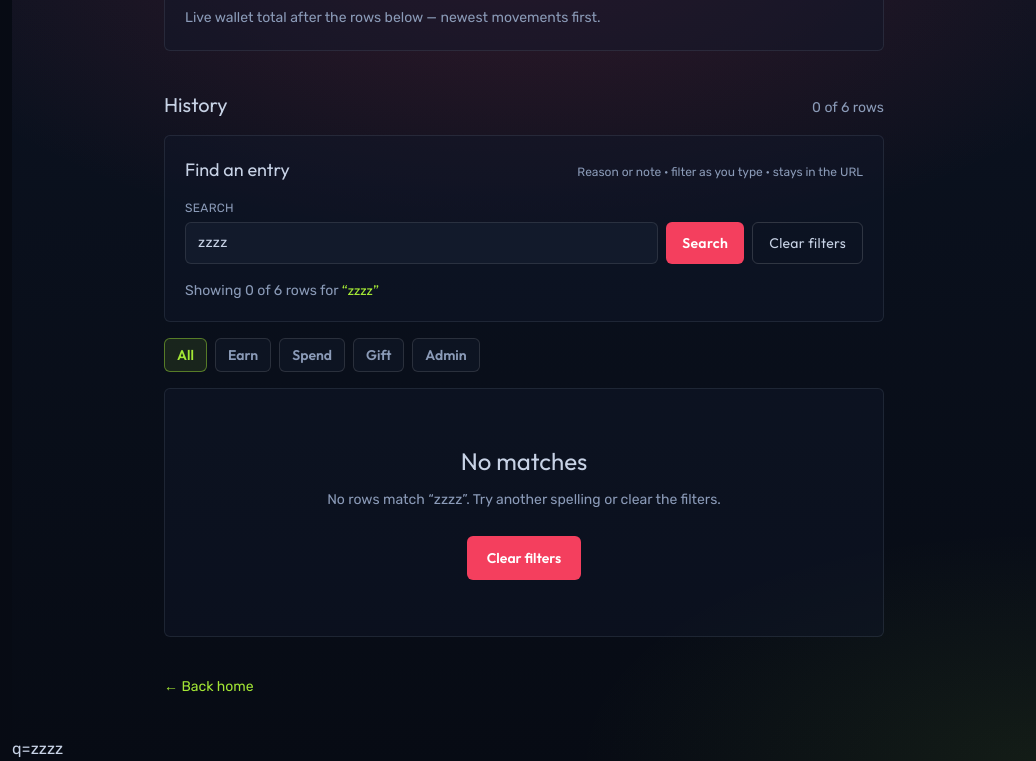
Test: LedgerPage Midnight Garage UI › shows No matches and Clear filters when Find yields none
(page scrolled)
Expected: the text "No matches" is shown, [461,446,587,476]
Expected: the message named "No matching ledger entries" is shown, [164,388,884,637]
Click the button "Clear filters" below "No matches" at (524, 558), box [467,536,581,580]
(page scrolled)
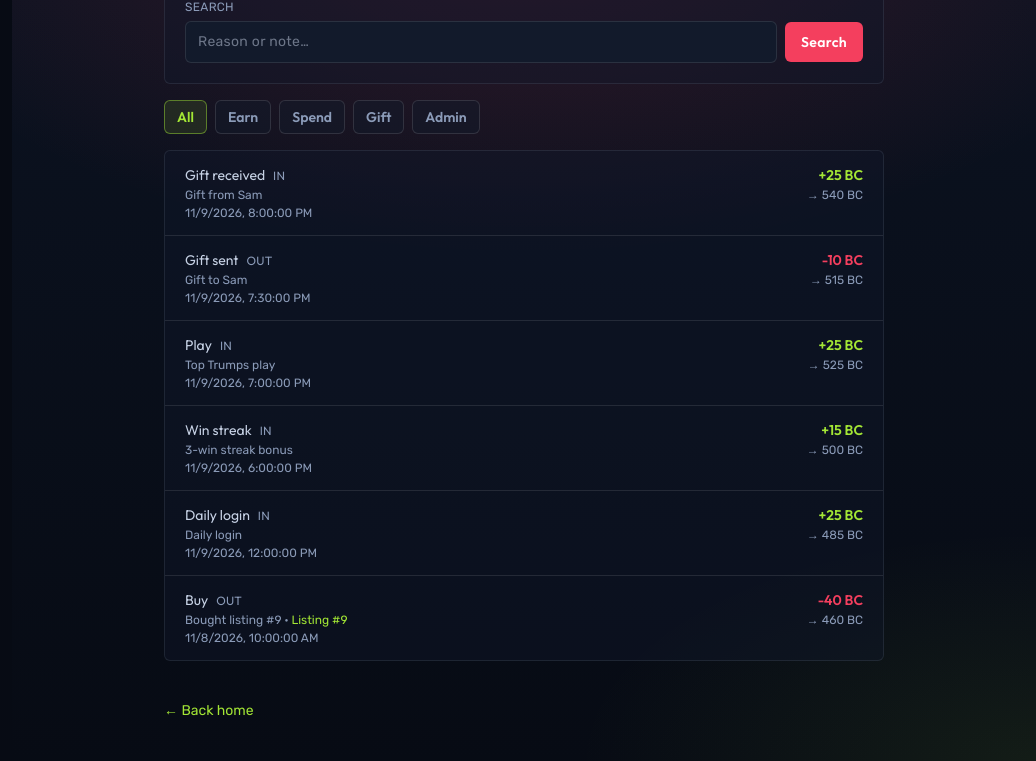
Expected: the list named "Brad Coin ledger entries" shows "Buy", [185,591,208,609]
Expected: the text "No matches" is gone
